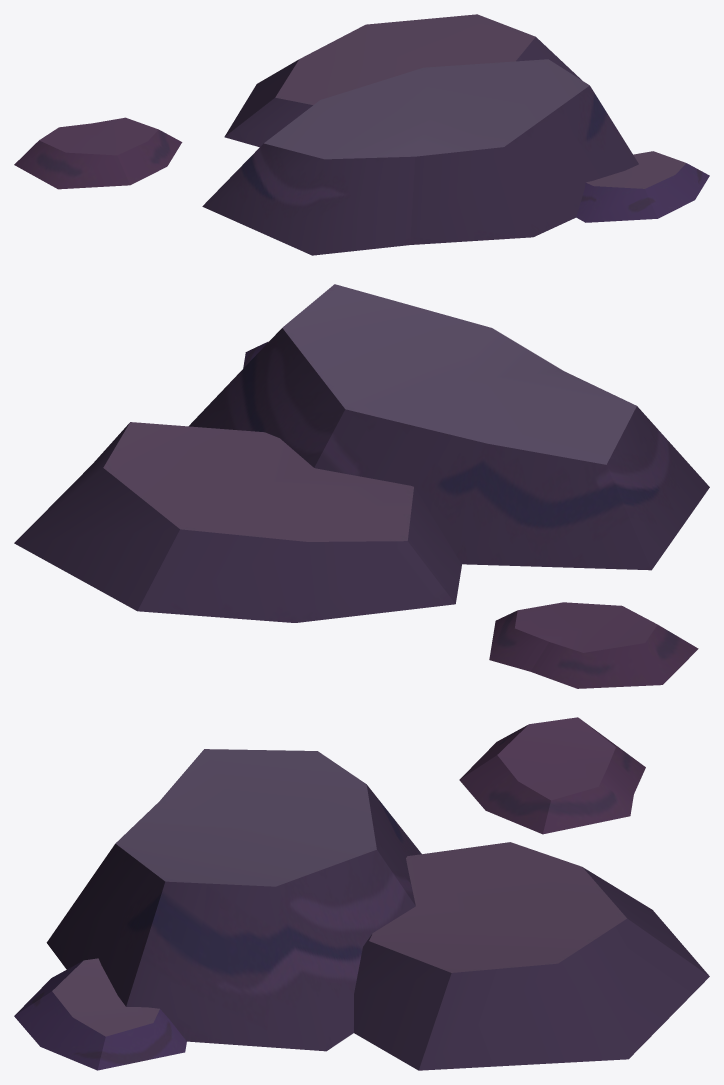
File: Rock_03.FBX
The picture shows the model from 3 angles, top to bottom: view 1: azimuth 30°, elevation 25°; view 2: azimuth 150°, elevation 25°; view 3: azimuth 270°, elevation 25°; orthographic projection. The views are drawn at different scales.
Visible parts, largest first — view 1: Rock_03; view 2: Rock_03; view 3: Rock_03.
Part boxes in pixels (x1,y1,x2,y2): Rock_03: (14, 14, 709, 255); Rock_03: (14, 284, 709, 688); Rock_03: (14, 717, 709, 1070).
Bounding box in the file's own units: 65.77 × 11.66 × 57.92.
